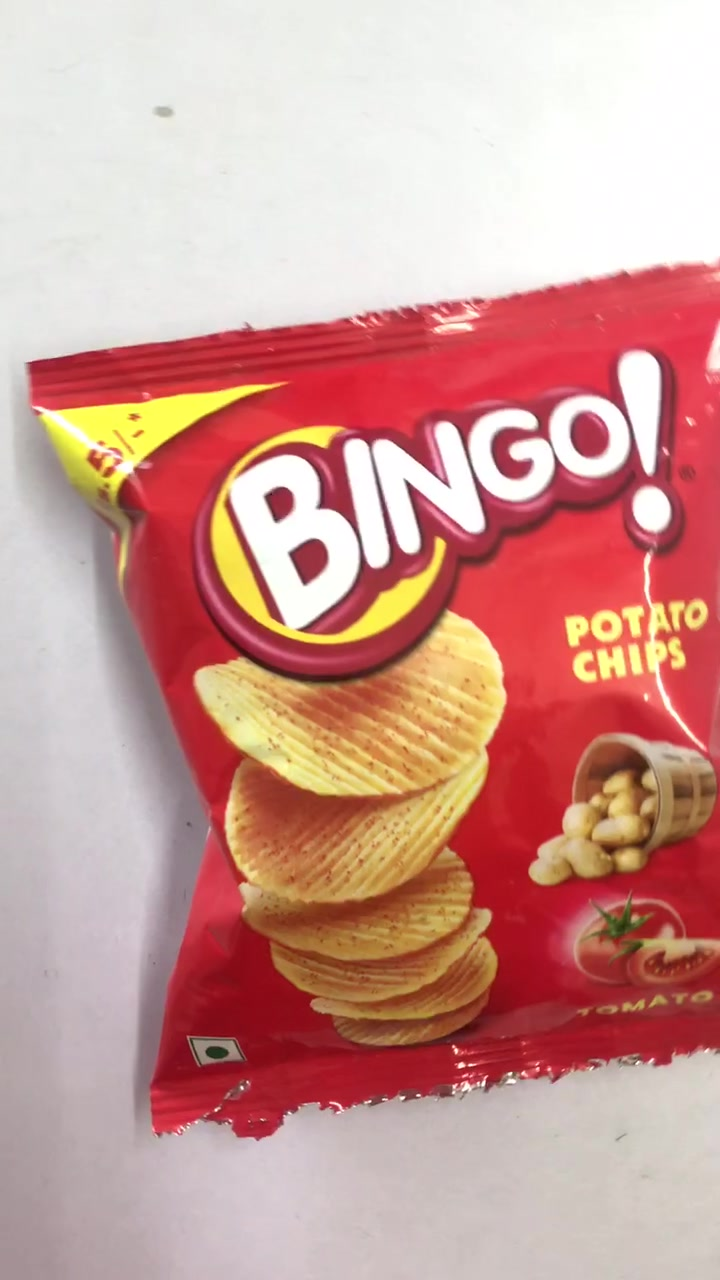Bingo: (41, 359, 720, 1108)
